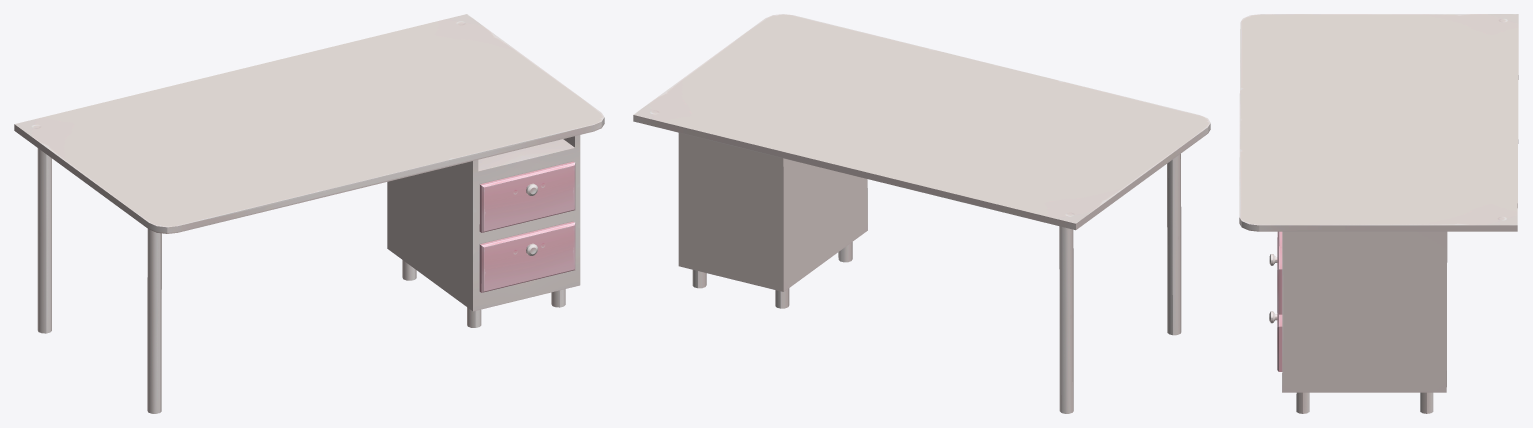
File: desk.fbx
The picture shows the model from 3 angles, left to right: view 1: azimuth 30°, elevation 25°; view 2: azimuth 150°, elevation 25°; view 3: azimuth 270°, elevation 25°; orthographic projection. The views are drawn at different scales.
Visible parts, largest first — view 1: mesh_244.003; view 2: mesh_244.003; view 3: mesh_244.003.
Boxes of the visible parts, left/top/right/bottom form: mesh_244.003: left=14, top=14, right=604, bottom=413; mesh_244.003: left=633, top=14, right=1210, bottom=413; mesh_244.003: left=1239, top=14, right=1518, bottom=413.
Size of the model in its own units: 124 by 53.25 by 68.99.
Materials: 1 (1 with a texture image).
